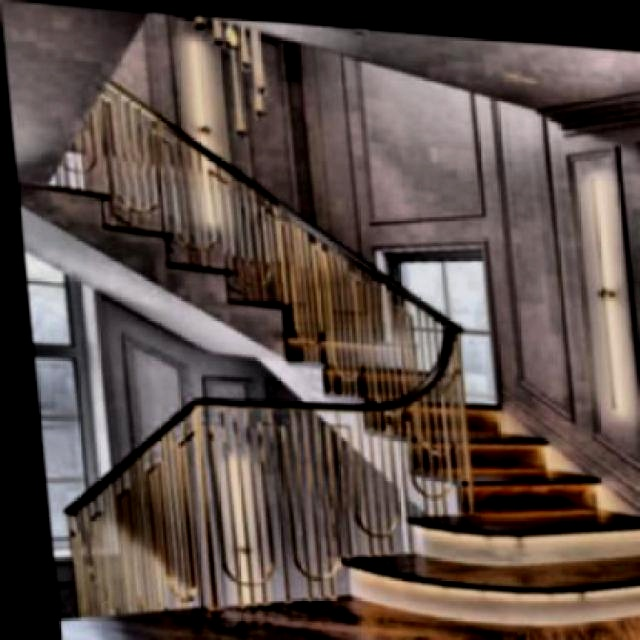stair: (326, 355, 639, 555)
